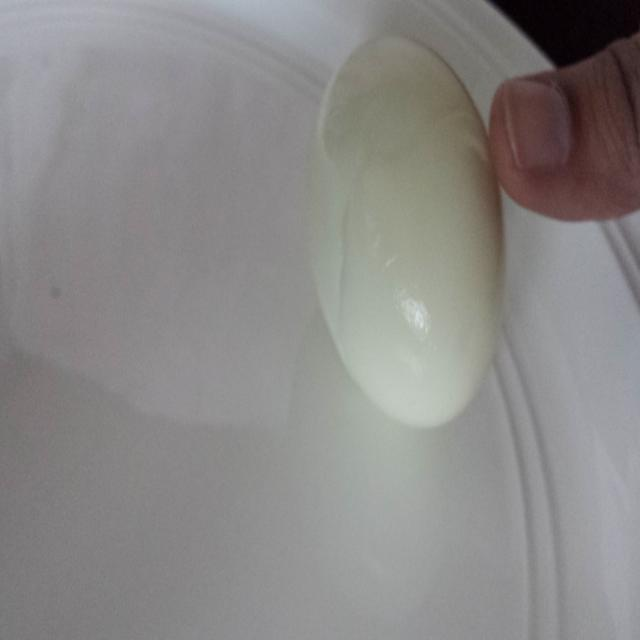egg: (304, 31, 504, 418)
